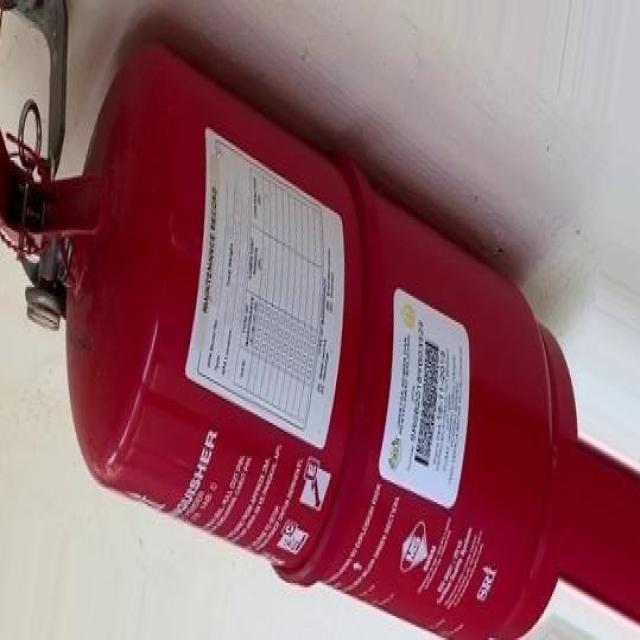fire_extinguisher: (0, 26, 581, 638)
